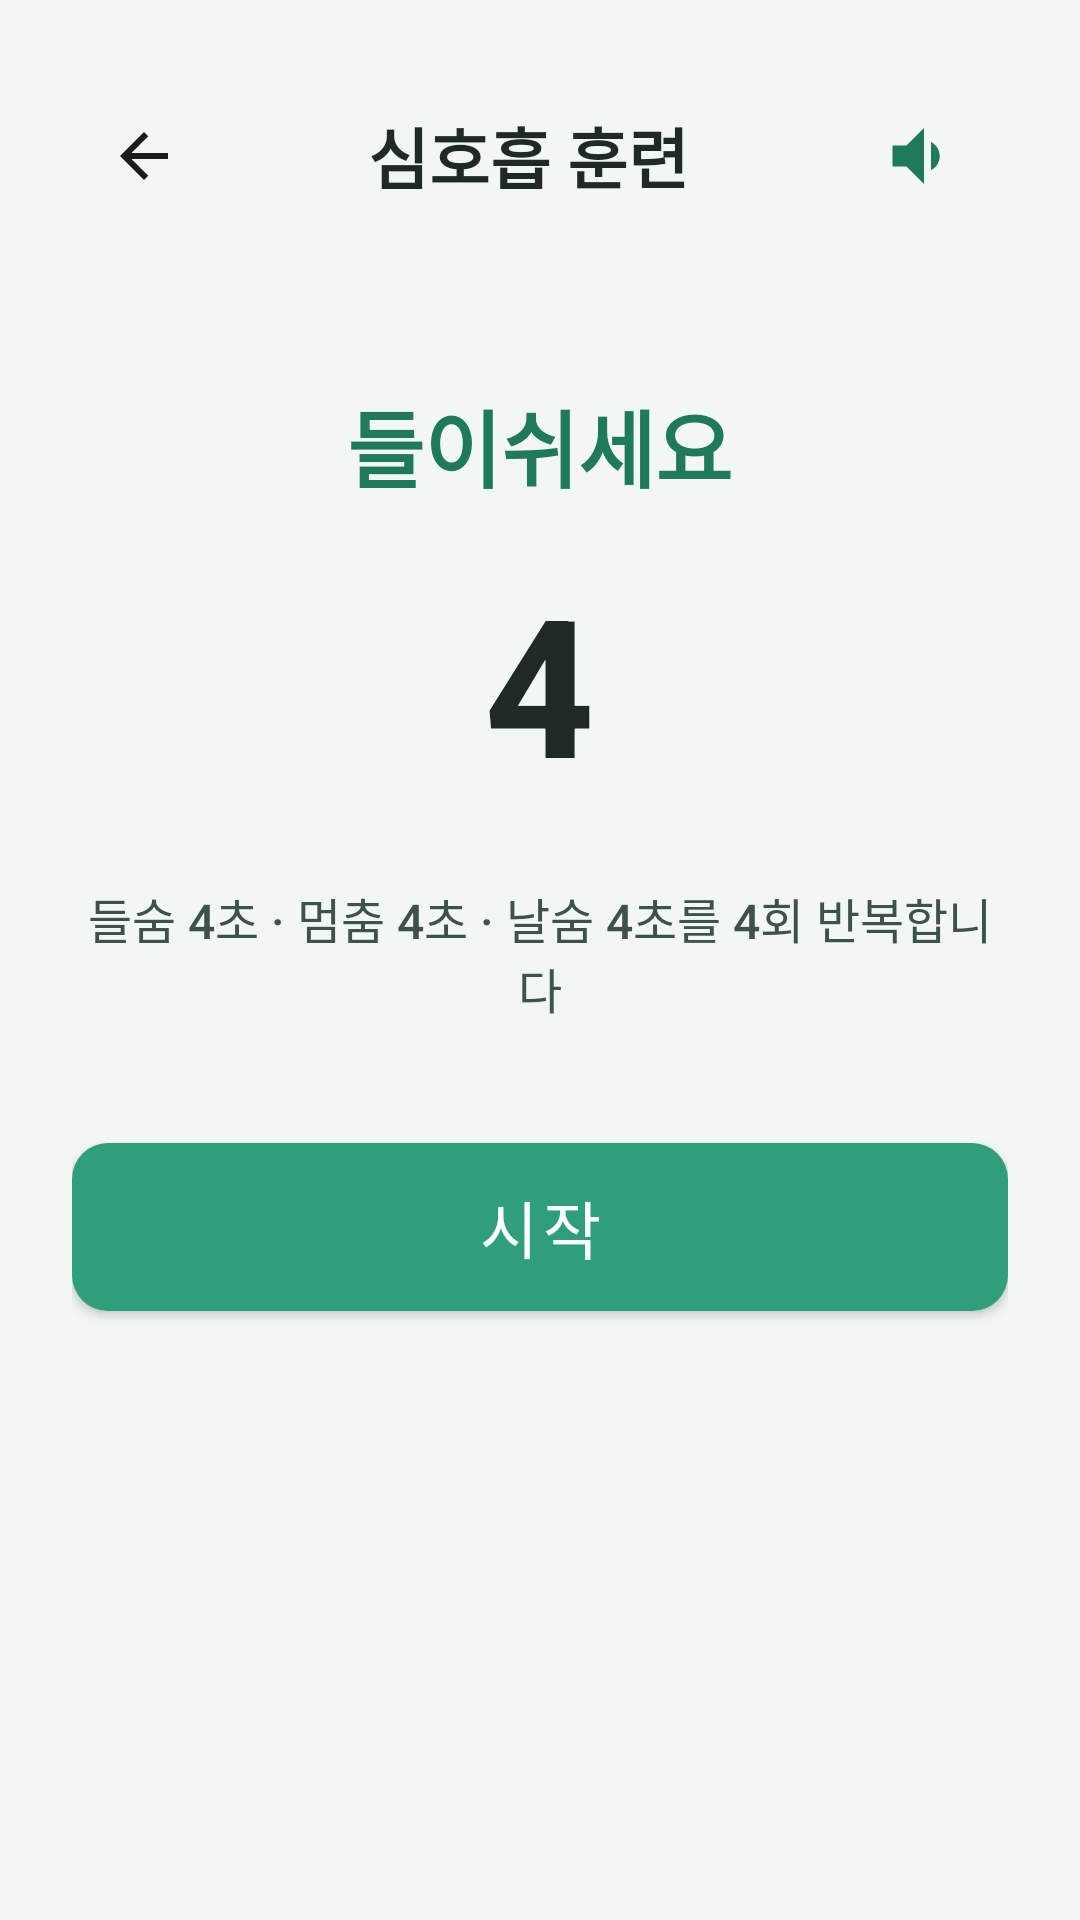

Icon bounding boxes for this 1080 × 1920 phone screenshot, format detection(x1, y1, x2, y2):
이전: detection(120, 132, 168, 180)
읽어주기: detection(892, 128, 940, 184)
